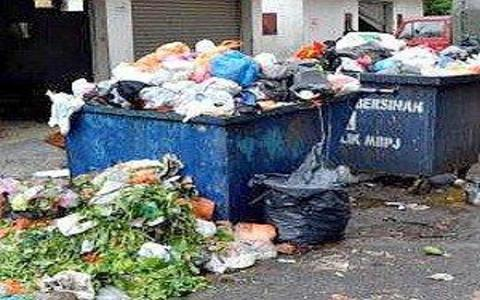overflowing garbage: (45, 35, 364, 280), (371, 44, 479, 264)
